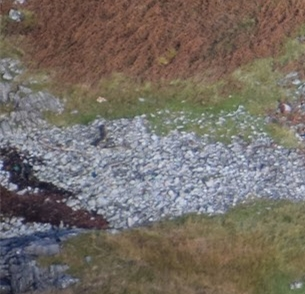tube: (35, 130, 80, 152)
white_in_green: (75, 113, 133, 160)
